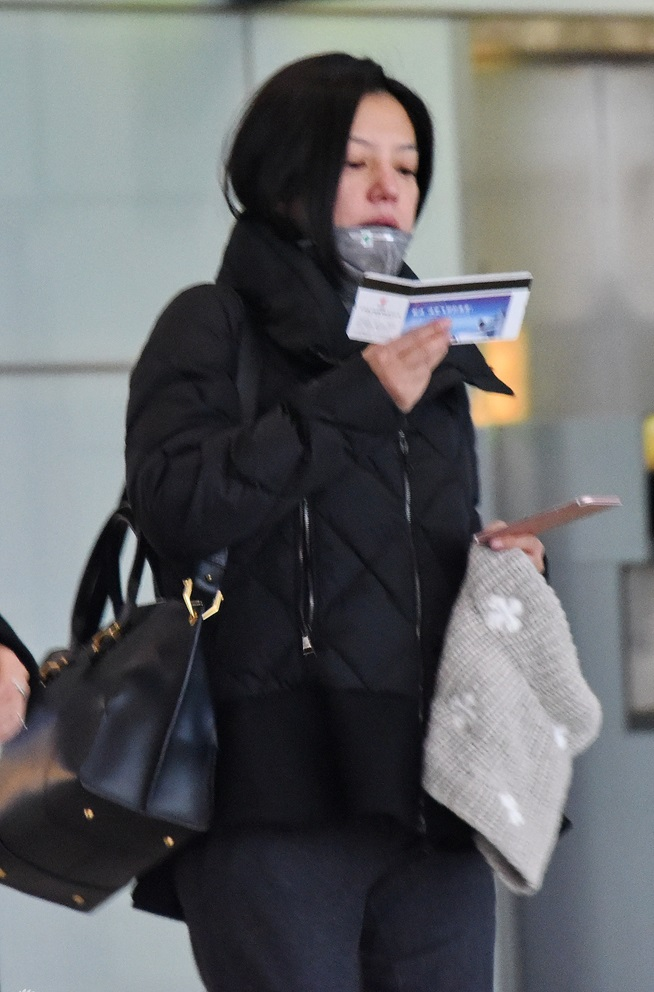face_mask: (319, 92, 419, 274)
